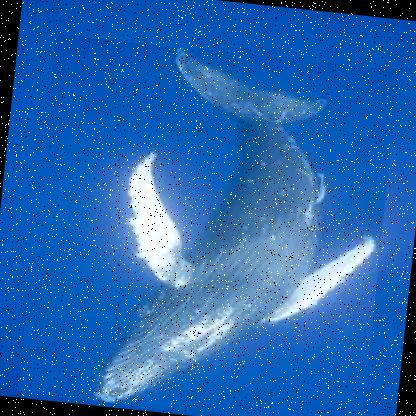blue_whale: (15, 34, 398, 415)
